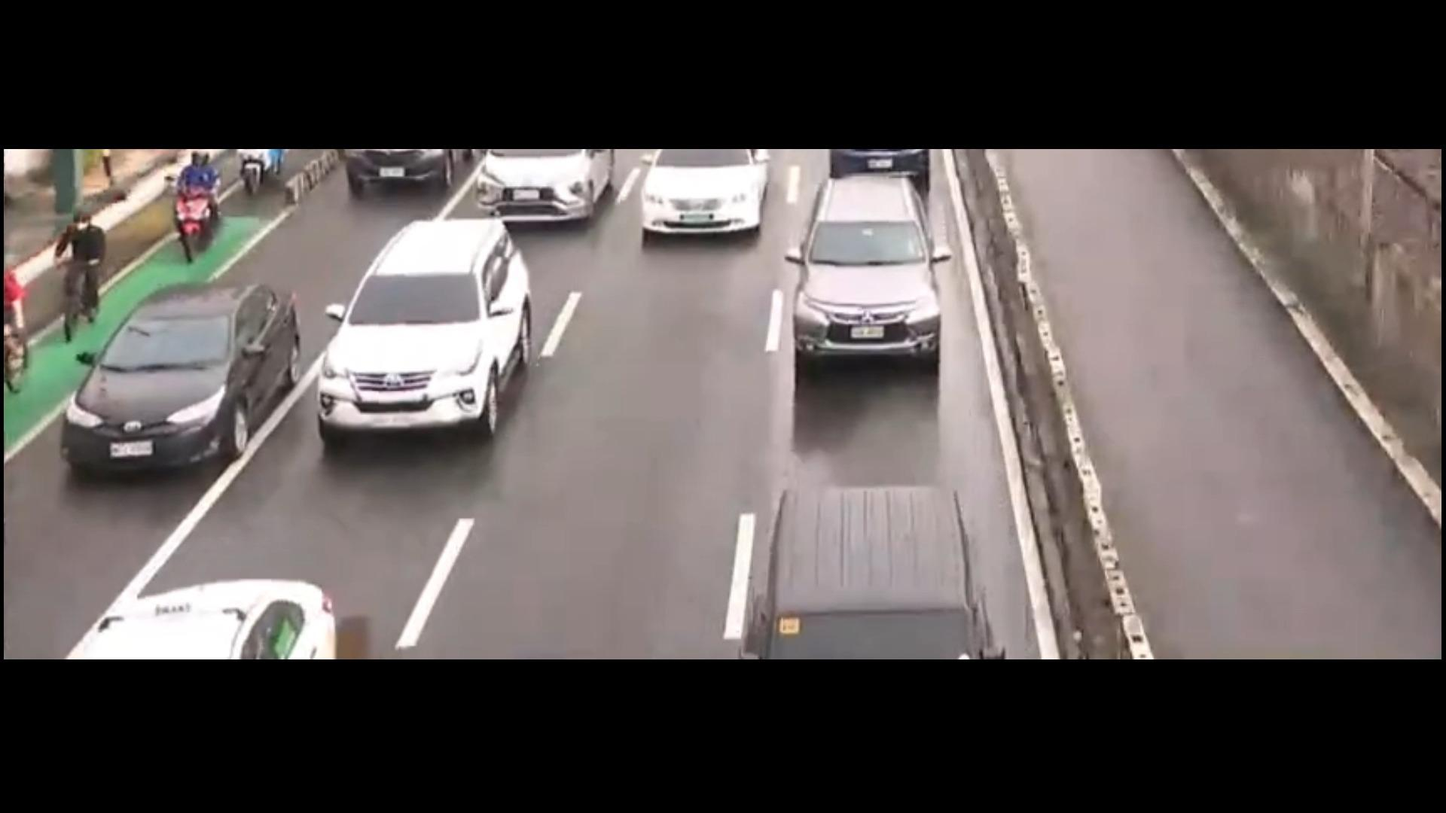Bicycle: (41, 203, 115, 359)
Motorcycle: (162, 147, 224, 265)
SUV: (318, 211, 537, 440), (783, 177, 934, 361)
Sedan: (62, 280, 303, 472), (56, 565, 350, 662), (633, 154, 772, 245)
Van: (742, 484, 996, 661)
